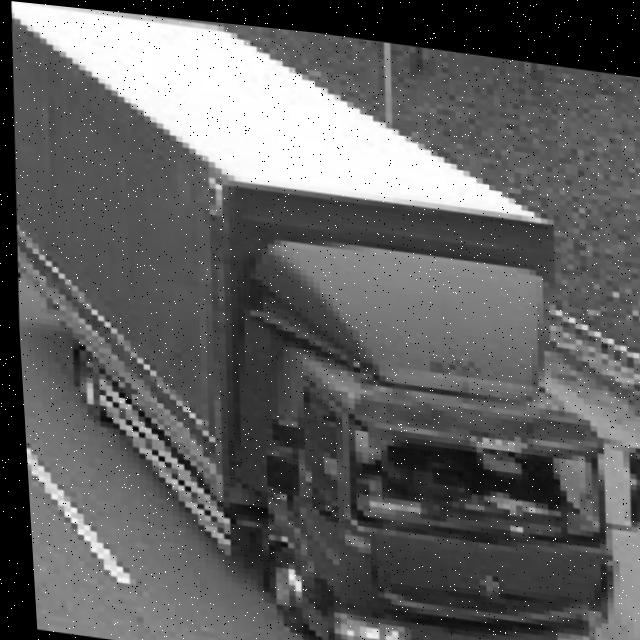truck: (199, 202, 640, 640)
